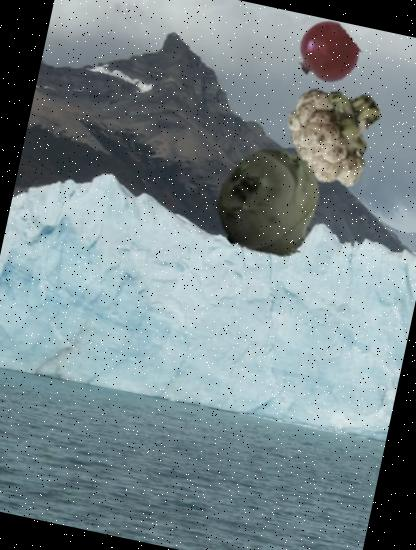Cauliflower: (274, 74, 398, 198)
Kohlrabi: (206, 139, 338, 272)
Redcurrant: (288, 16, 362, 90)
